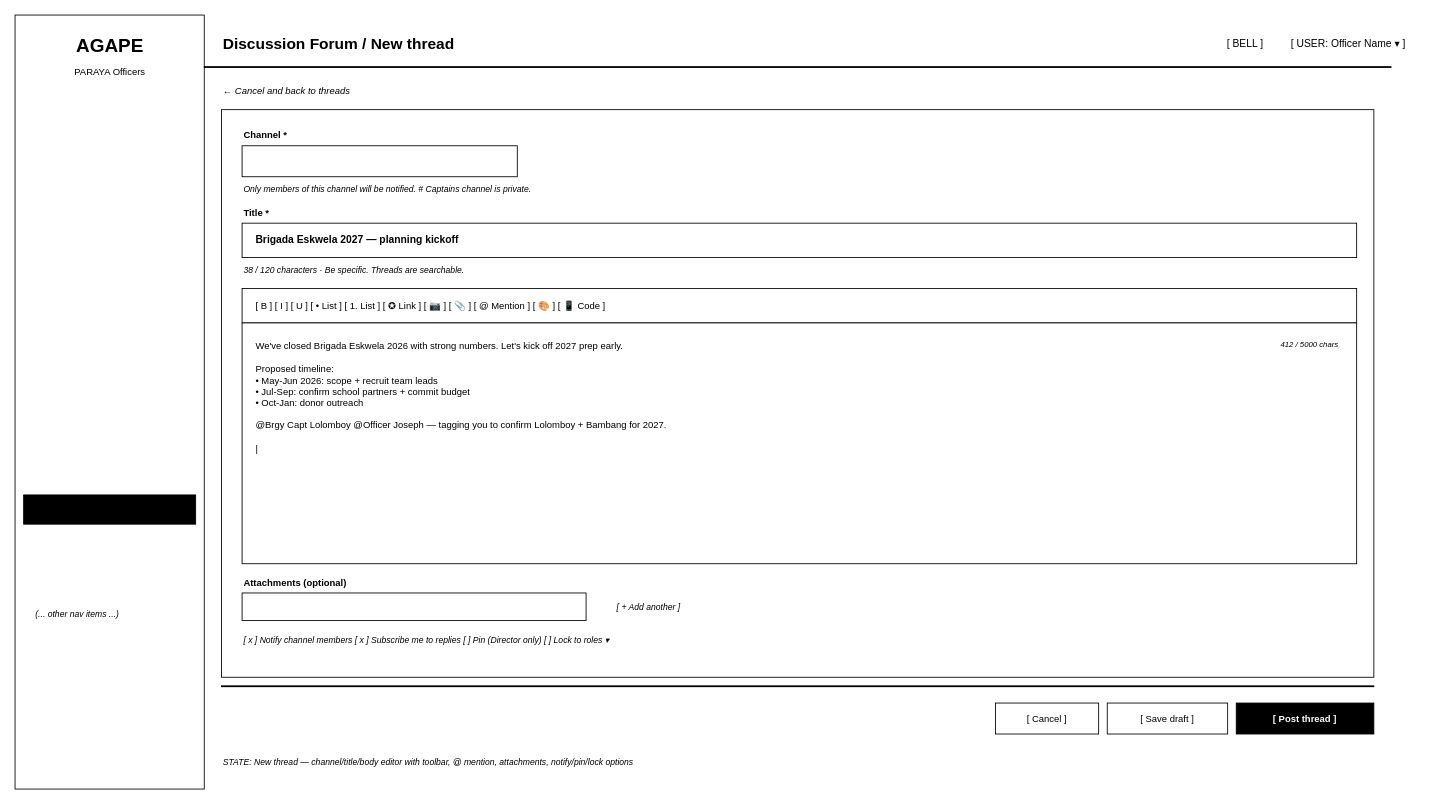
The diagram is 1441 pixels wide and 804 high, and some of its shapes have lost their labels. The centre of each missing label's shape, as x and y in pixels:
"# Programs ▾" belongs at point (379, 161).
"[ 📎 Brigada-2026-final-counts.xlsx (4.2 KB) ✕ ]" belongs at point (413, 606).
"[x] Forum" belongs at point (109, 509).
